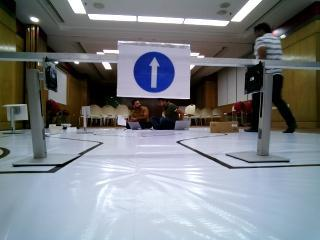straight: (119, 42, 189, 98)
